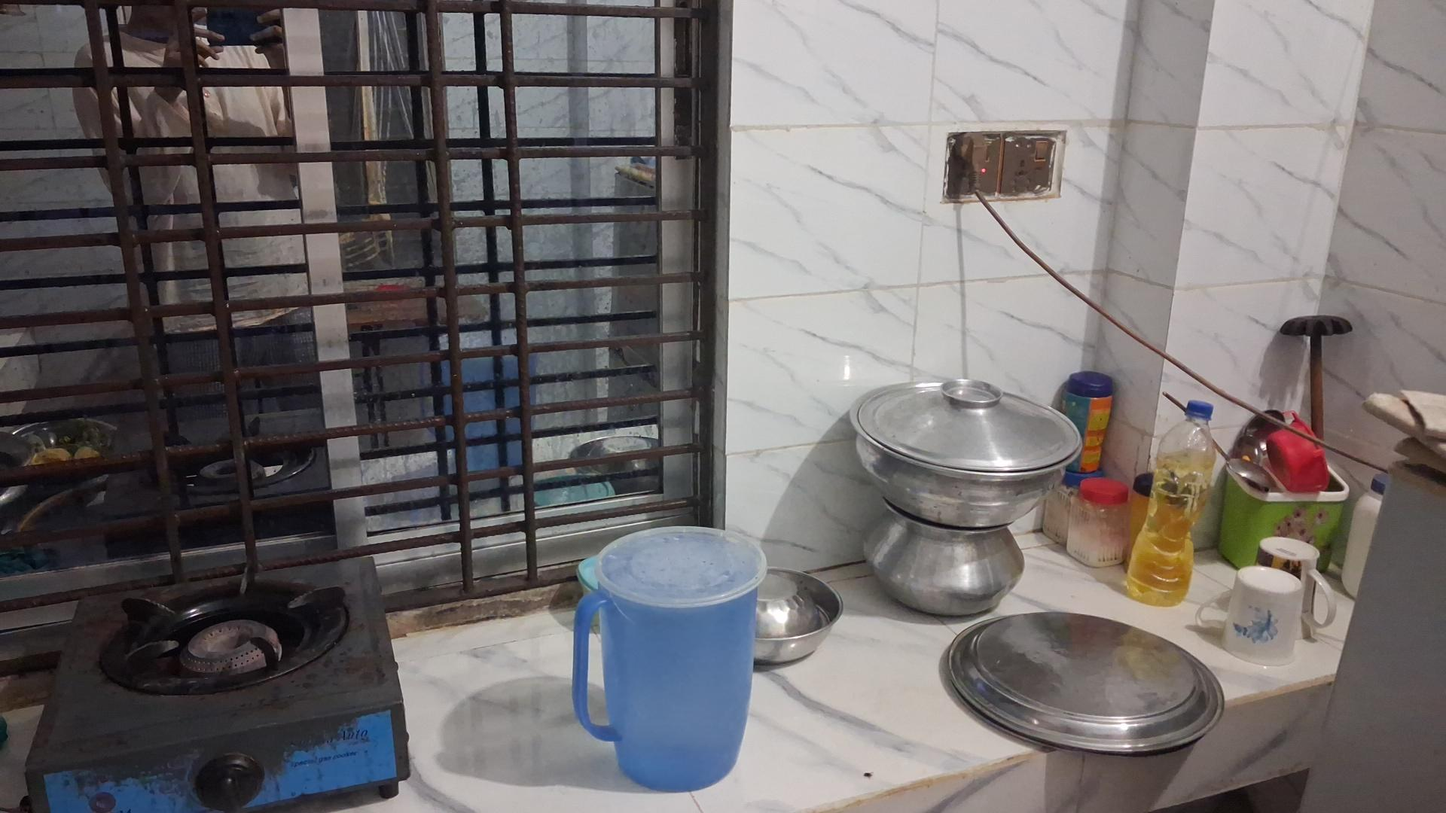Bottle: (1126, 400, 1223, 606)
Bowl: (752, 568, 843, 668)
Cup: (1217, 565, 1305, 668)
Jar: (1062, 373, 1111, 470), (1070, 479, 1123, 565)
Jug: (570, 525, 768, 793)
Plate: (942, 606, 1227, 760)
Pot: (846, 375, 1082, 528), (864, 521, 1026, 622)
Window: (2, 0, 731, 628)
